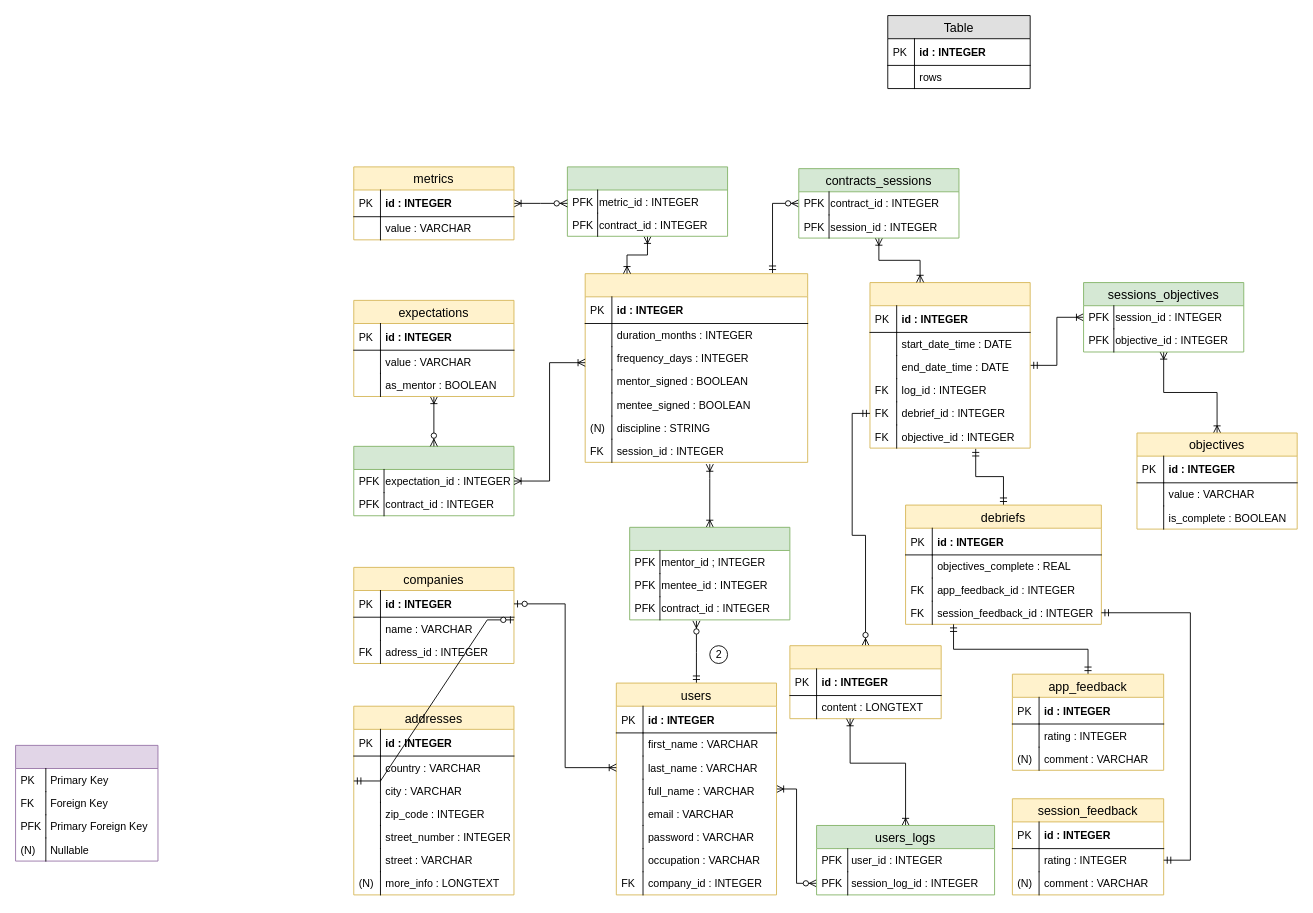
Image size: 1313x913. Some labels were removed from this diagram. Here are the shapes that lost their labels. From the top down, the box of each, then its label:
(566, 166, 728, 236): contracts_metrics
(584, 273, 808, 462): contracts
(869, 282, 1030, 448): sessions
(353, 445, 514, 516): contracts_expectations
(629, 526, 790, 620): users_contracts
(789, 645, 941, 719): logs
(15, 744, 158, 861): LEGEND
